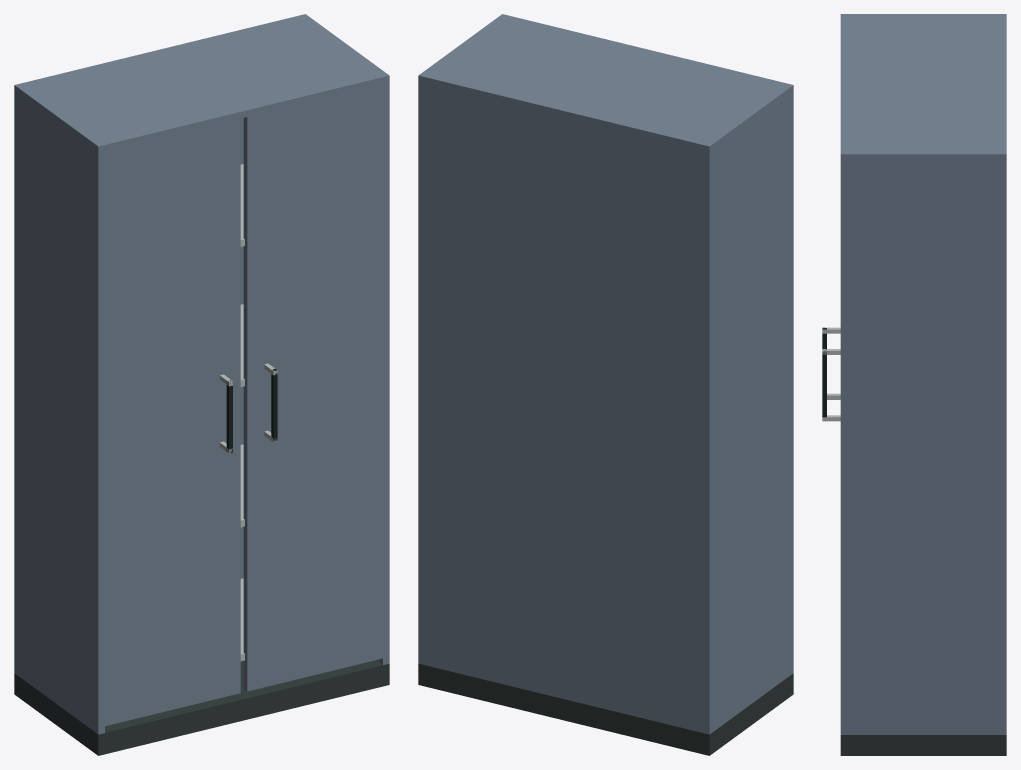
Rendered from steel-cabinet.glb.
3 views of the same model, side by side, from view 1: azimuth 30°, elevation 25°; view 2: azimuth 150°, elevation 25°; view 3: azimuth 270°, elevation 25° (orthographic).
Visible parts, largest first — view 1: RightDoor, LeftDoor, SideWall-1, TopPanel, Plinth, SideWall1, BackPanel; view 2: BackPanel, SideWall-1, TopPanel, Plinth, SideWall1; view 3: SideWall1, TopPanel, BackPanel, Plinth, Grip.
Boxes of the visible parts, x1,y1,x2,y2 form: RightDoor: (243,84,382,691); LeftDoor: (105,118,240,726); SideWall-1: (14,83,104,734); TopPanel: (15,14,388,152); Plinth: (14,660,389,755); SideWall1: (321,31,389,664); BackPanel: (14,35,243,675); BackPanel: (418,73,712,734); SideWall-1: (703,83,793,733); TopPanel: (419,14,792,152); Plinth: (418,663,793,755); SideWall1: (418,24,496,664); SideWall1: (840,151,1006,734); TopPanel: (840,14,1006,160); BackPanel: (999,31,1006,729); Plinth: (840,735,1006,755); Grip: (822,349,826,417).
Bounding box in the file's own units: 0.9 × 1.8 × 0.5.
